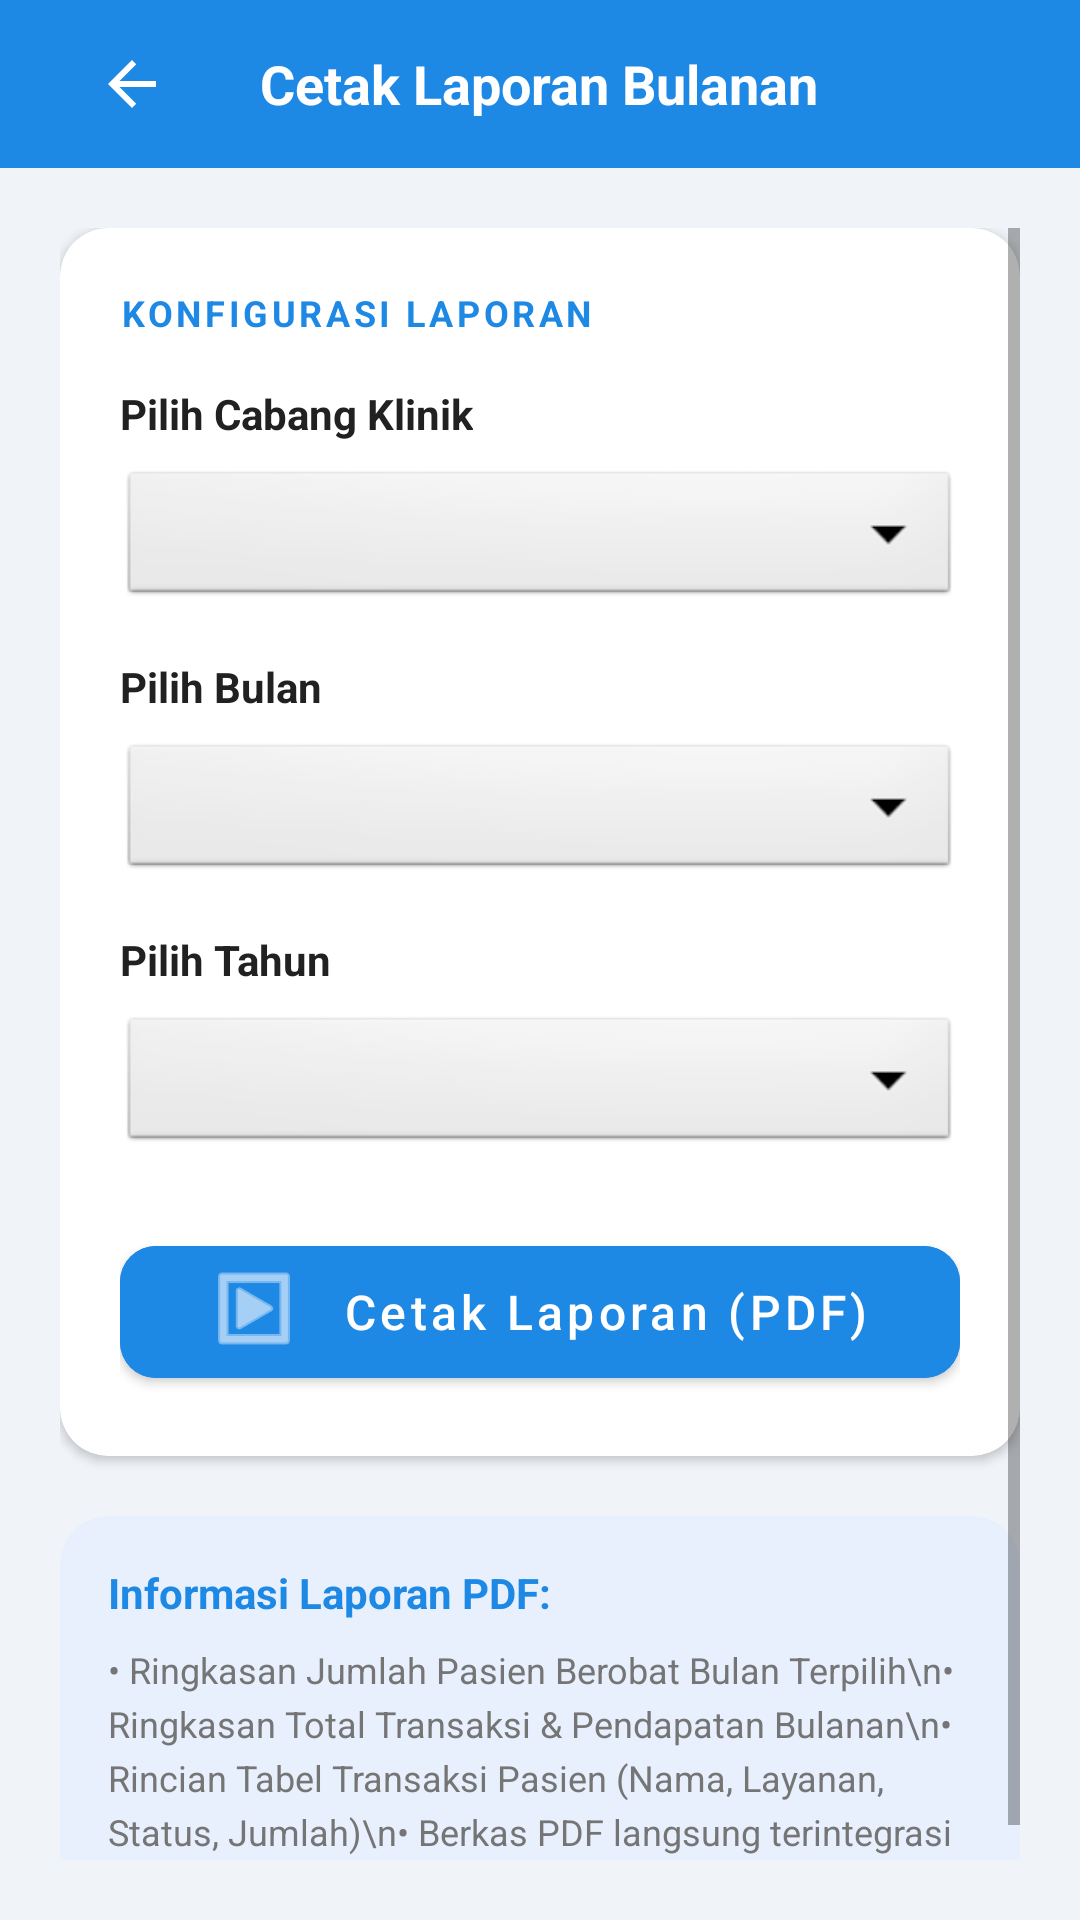

Icon click points for this 1080 × 1920 phone screenshot, format point (x, y):
back: point (132, 84)
